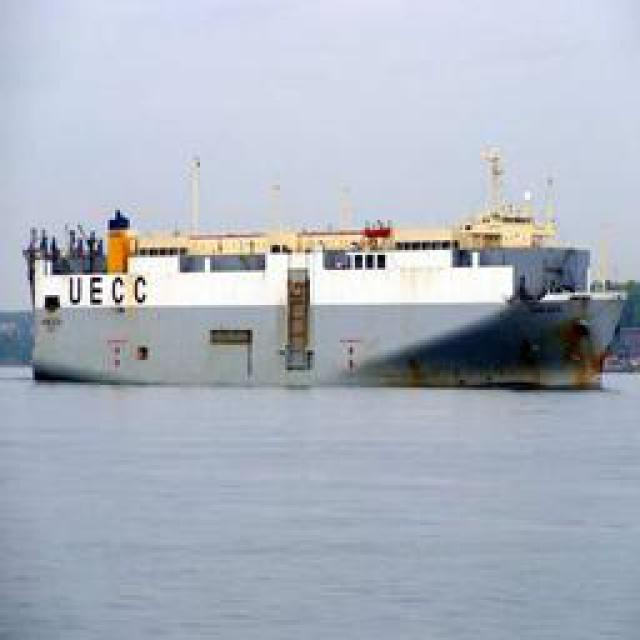Ship: (15, 210, 628, 390)
